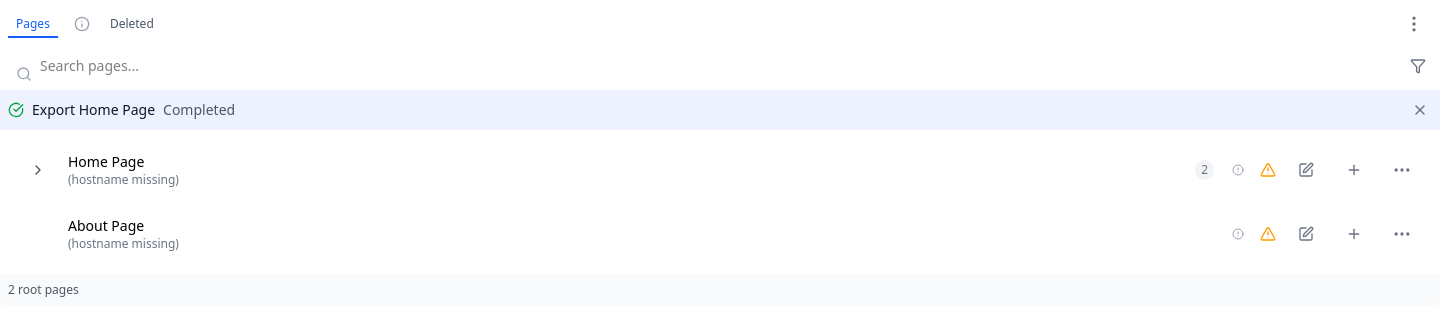
Scenario: TreePageManager › does not restore dismissed completed site package exports after download URL recovery
The image size is (1440, 314).
Check: the text "Export Home Page" is shown, box [32,100,155,120]
Check: the text "Completed" is shown, box [163,100,235,120]
Click the button named "Dismiss site package job". click: (1420,110)
box: [1408,98,1432,122]
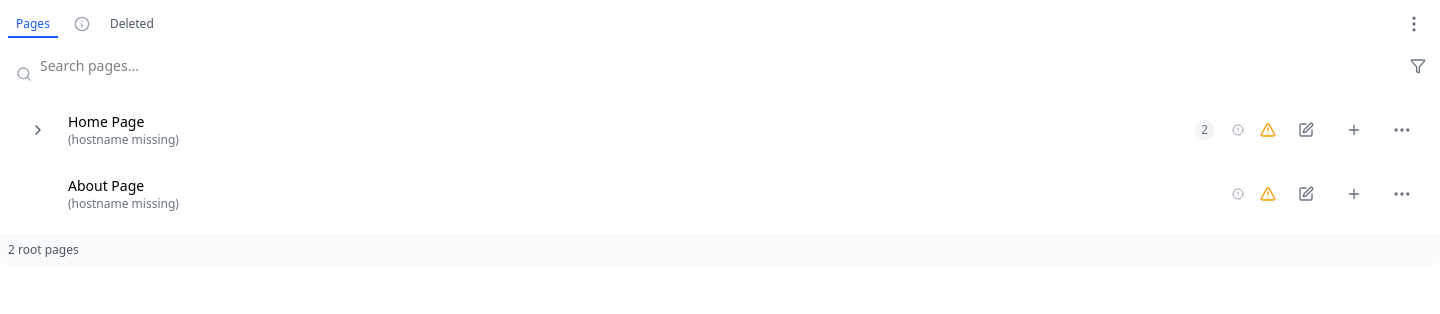
Check: the text "Export Home Page" is gone
